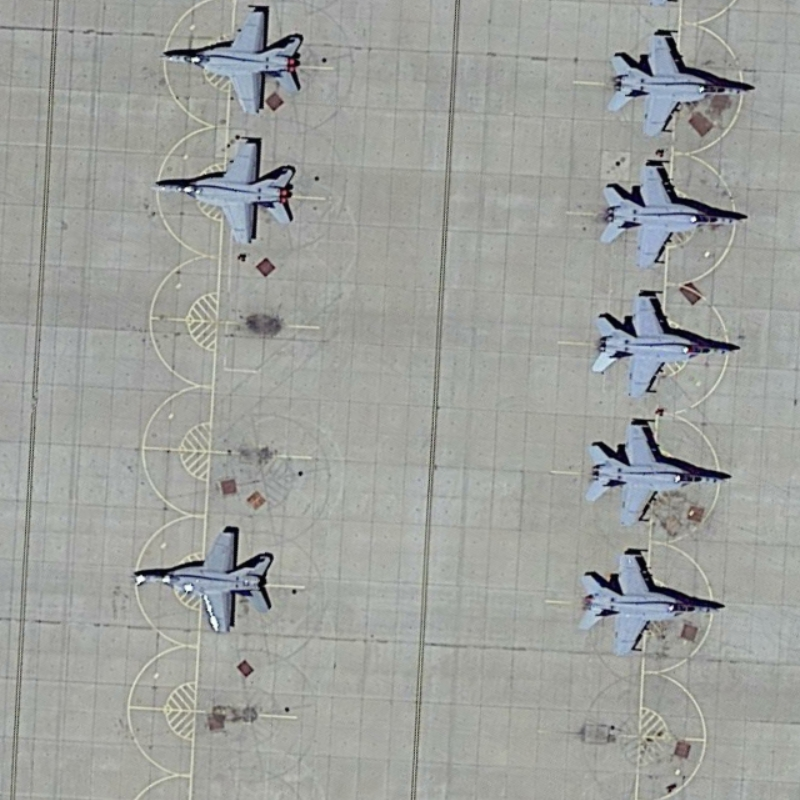A16: (122, 522, 282, 642), (155, 2, 315, 122), (581, 288, 745, 405), (590, 156, 751, 274), (597, 22, 756, 139), (583, 415, 737, 534), (573, 543, 726, 659), (149, 133, 300, 250)
